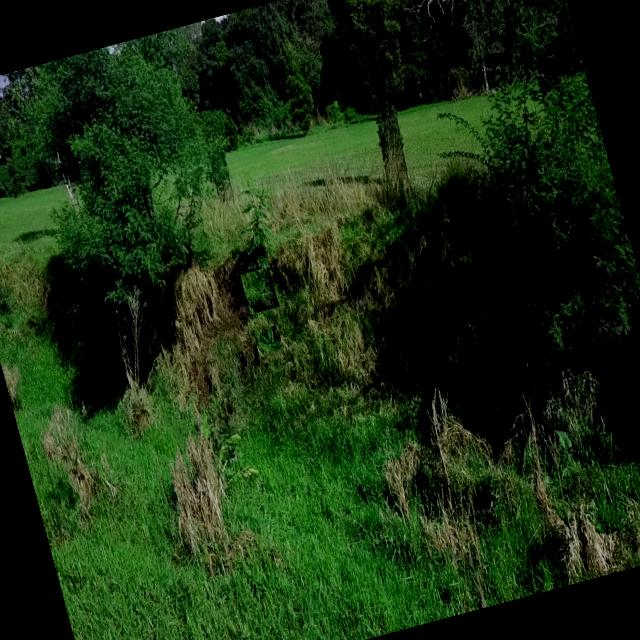Mysore-Thorn-Weed: (226, 166, 286, 258), (240, 266, 278, 314), (252, 324, 286, 364)
